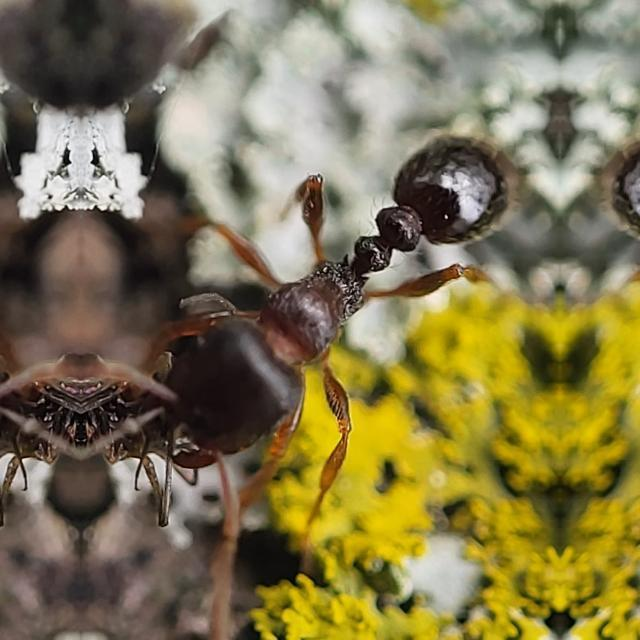Tetramorium: (139, 78, 536, 522)
